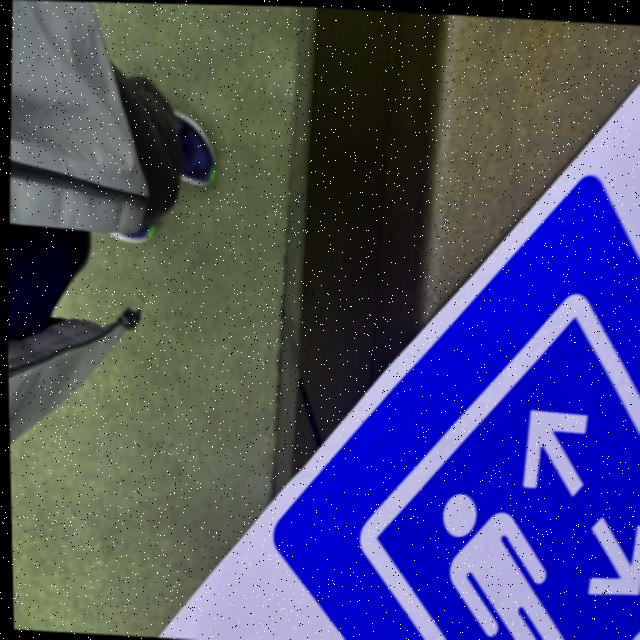elevator: (266, 173, 640, 640)
